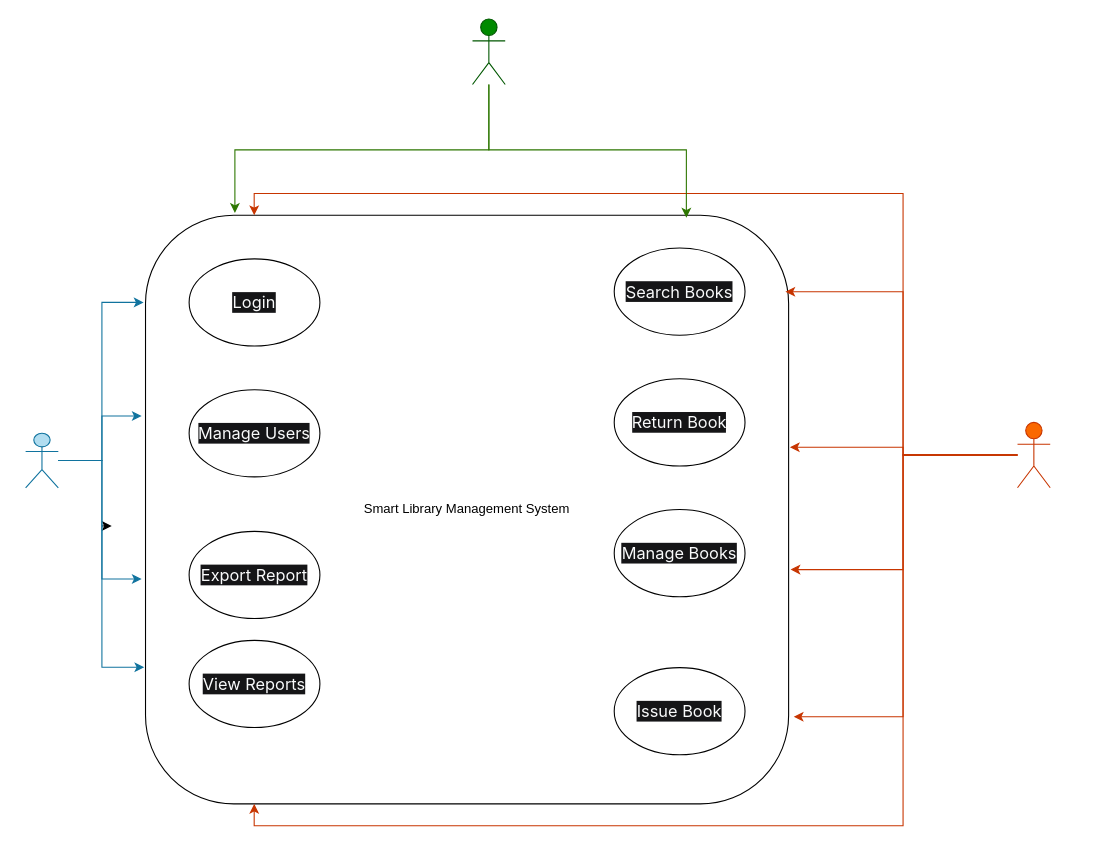
Some shapes in this 1093 by 853 pixel diagram are drawn without their labels. The shapes that lost their labels are listed below. From the top down, each one's centre as x and y in pixels, then its label:
the point at 488,51: Member
the point at 41,460: Admin
the point at 1033,454: Librarian
